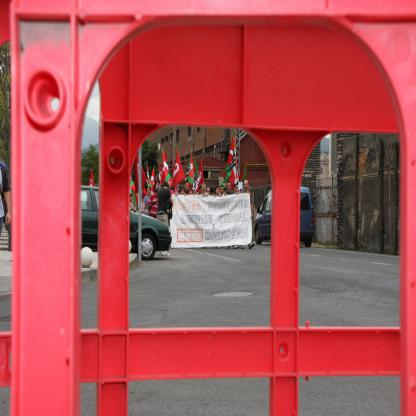Car: (80, 185, 172, 260)
